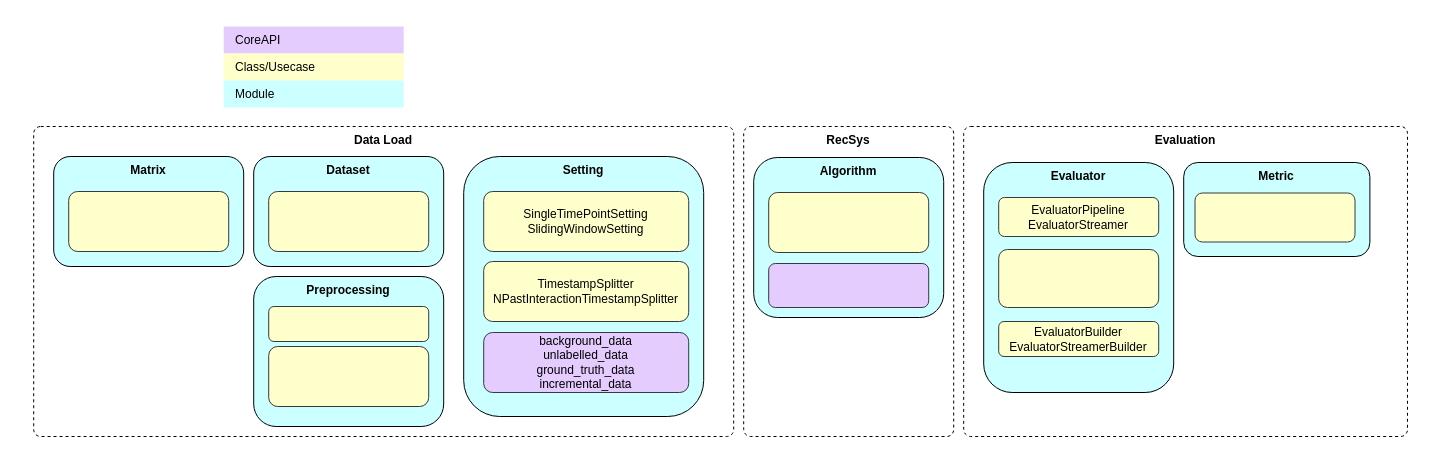
Image size: 1444x474. Some labels were removed from this diagram. The centre of each missing label's shape, as x and y in pixels:
AmazonMusicDataset AmazonMovieDataset AmazonBookDataset AmazonComputerDataset: (348,221)
fit() predict(): (848,285)
InteractionMatrix: (148,221)
ItemKNN ItemKNNRolling ItemKNNStatic ItemKNNIncremental: (848,222)
Mapping user, item ID into internal ID: (348,324)
MetricAccumulator MacroMetricAccumulator MicroMetricAccumulator: (1078,278)
MinItemPerUser: (348,376)
Precision Recall: (1274,217)
